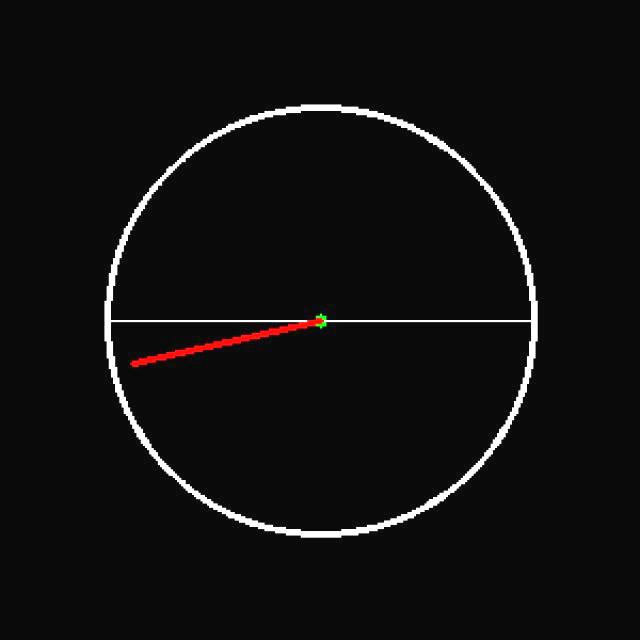Needle_Tip: (119, 342, 161, 389)
Needle_base: (285, 299, 358, 361)
